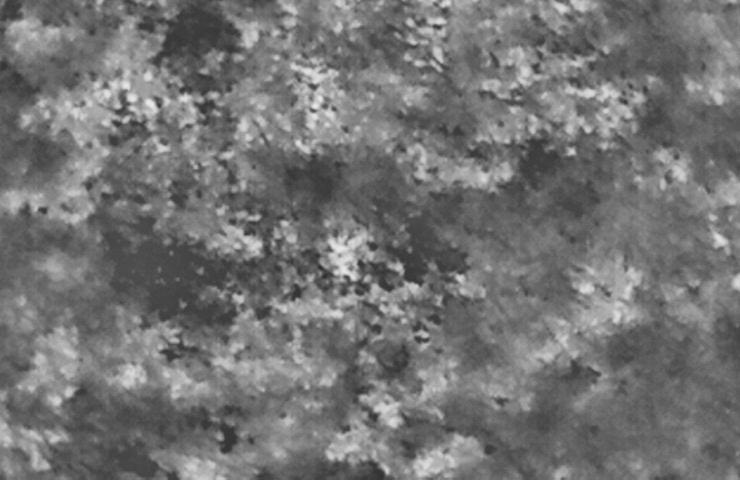landmines: (322, 231, 371, 275)
